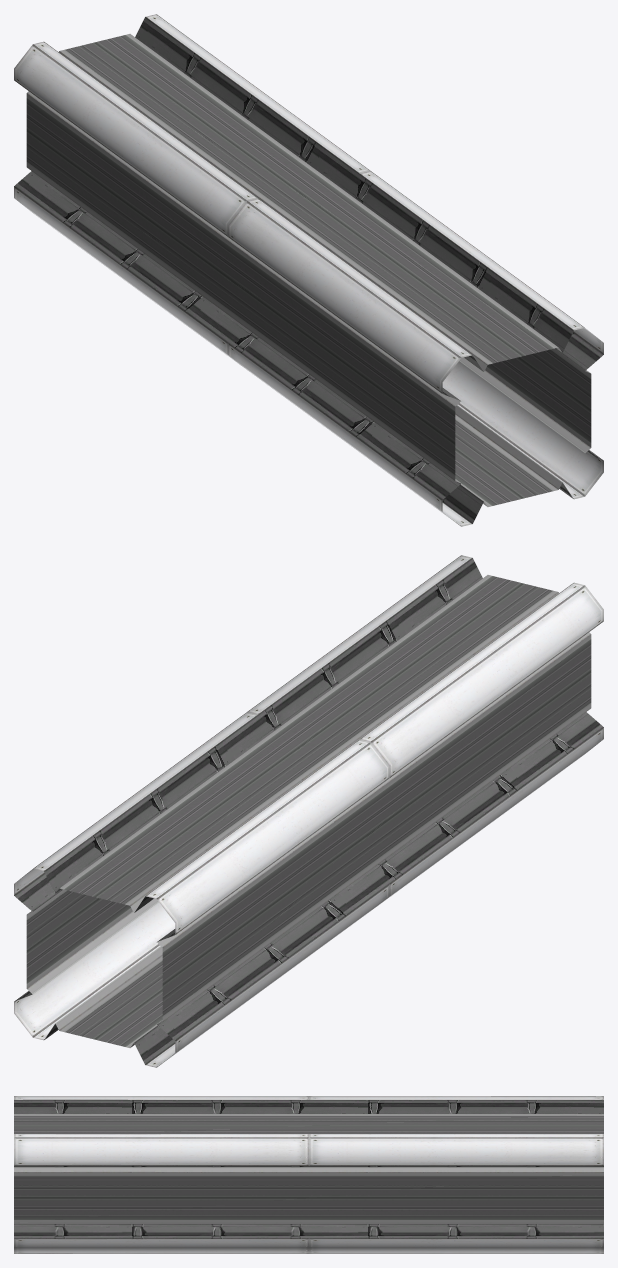
File: CeilingBrace_1x6.FBX
3 renders of one model, top to bottom at view 1: azimuth 30°, elevation 25°; view 2: azimuth 150°, elevation 25°; view 3: azimuth 270°, elevation 25°, orthographic. The views are drawn at different scales.
Visible parts, largest first — view 1: CeilingBrace_1x6; view 2: CeilingBrace_1x6; view 3: CeilingBrace_1x6.
Part boxes in pixels (x1,y1,x2,y2): CeilingBrace_1x6: [14, 14, 603, 526]; CeilingBrace_1x6: [14, 555, 603, 1067]; CeilingBrace_1x6: [14, 1096, 603, 1253].
Bounding box in the file's own units: 1.3 × 1.3 × 6.
